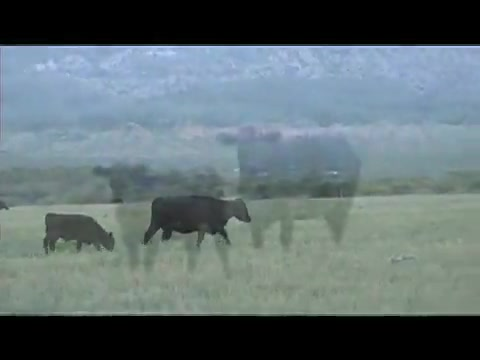cow: (216, 126, 363, 249), (143, 198, 252, 248), (43, 213, 116, 256)
